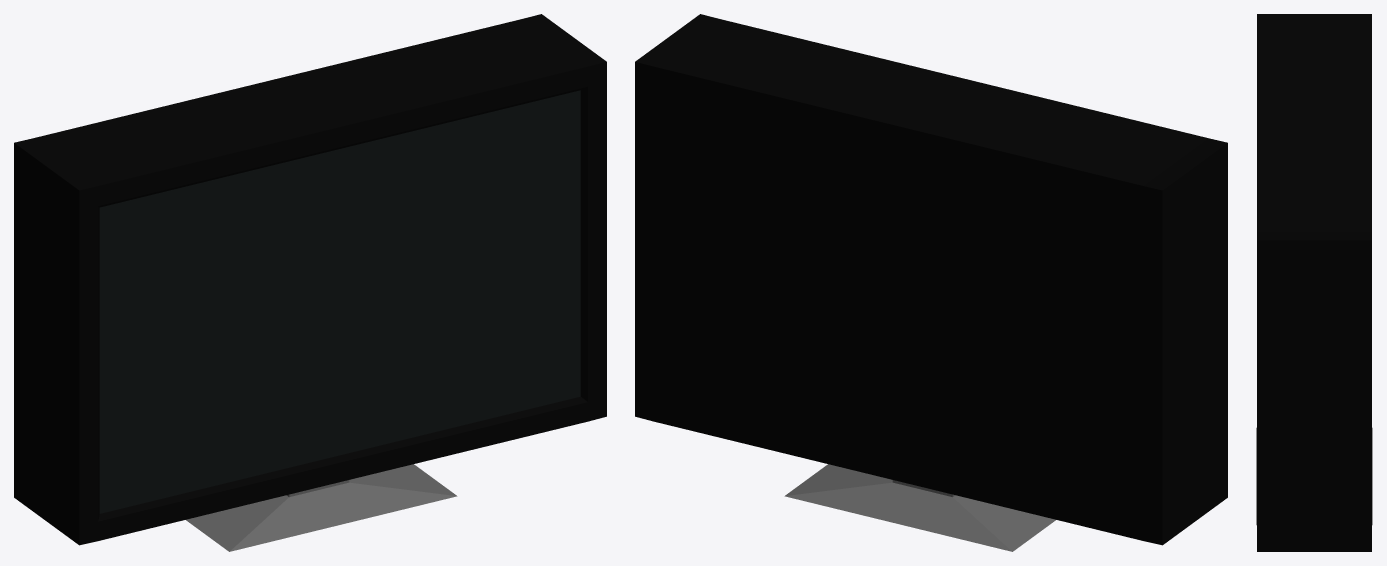
The model's file is SM_TD2_TV_FlatStand.fbx.
3 renders of one model, left to right at view 1: azimuth 30°, elevation 25°; view 2: azimuth 150°, elevation 25°; view 3: azimuth 270°, elevation 25°, orthographic. The views are drawn at different scales.
Parts seen in each view (by area): view 1: SM_TD2_TV_FlatStand__Screen, SM_TD2_TV_FlatStand__Body; view 2: SM_TD2_TV_FlatStand__Body; view 3: SM_TD2_TV_FlatStand__Body.
Boxes of the visible parts, box(x1,y1,x2,y2) form: SM_TD2_TV_FlatStand__Screen: box(99, 90, 580, 513); SM_TD2_TV_FlatStand__Body: box(14, 14, 606, 551); SM_TD2_TV_FlatStand__Body: box(635, 14, 1227, 551); SM_TD2_TV_FlatStand__Body: box(1256, 14, 1372, 551).
Size of the model in its own units: 1.4 by 1.01 by 0.3037.
2 materials, 1 textured.
